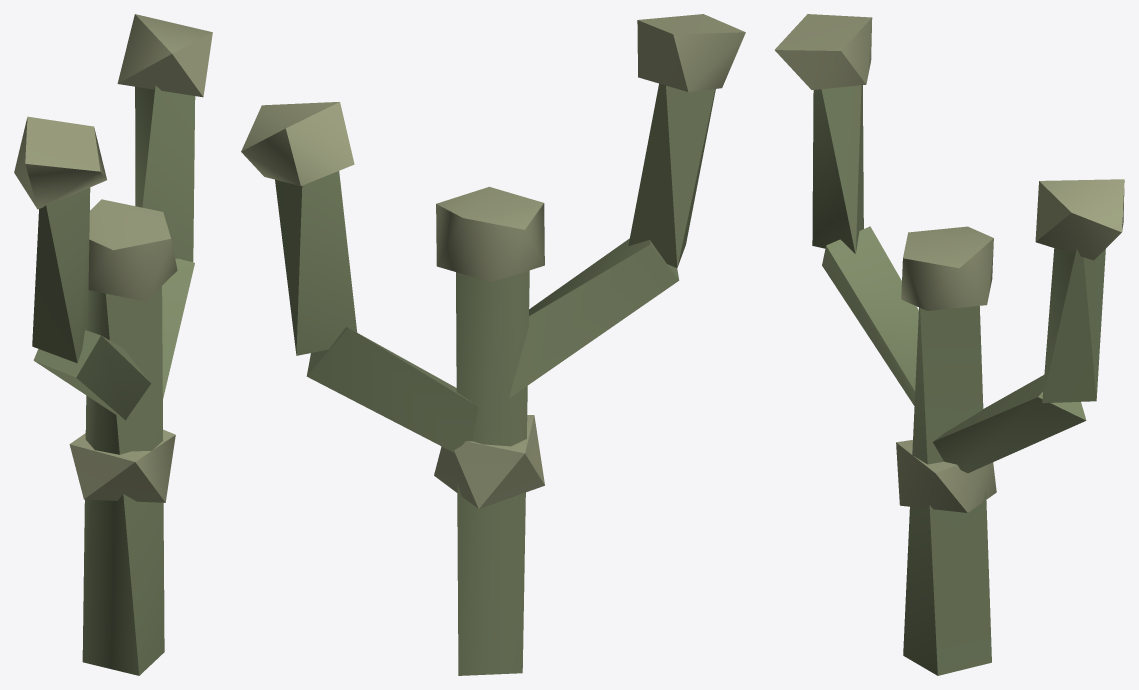
Rendered from cholla_a_lod2.glb.
3 renders of one model, left to right at view 1: azimuth 30°, elevation 25°; view 2: azimuth 150°, elevation 25°; view 3: azimuth 270°, elevation 25°, orthographic. The views are drawn at different scales.
Parts seen in each view (by area): view 1: Surface.001; view 2: Surface.001; view 3: Surface.001.
Part boxes in pixels (x1,y1,x2,y2): Surface.001: (14,14,212,675); Surface.001: (241,14,745,675); Surface.001: (775,14,1124,675).
Size of the model in its own units: 1.18 by 2.09 by 1.15.
